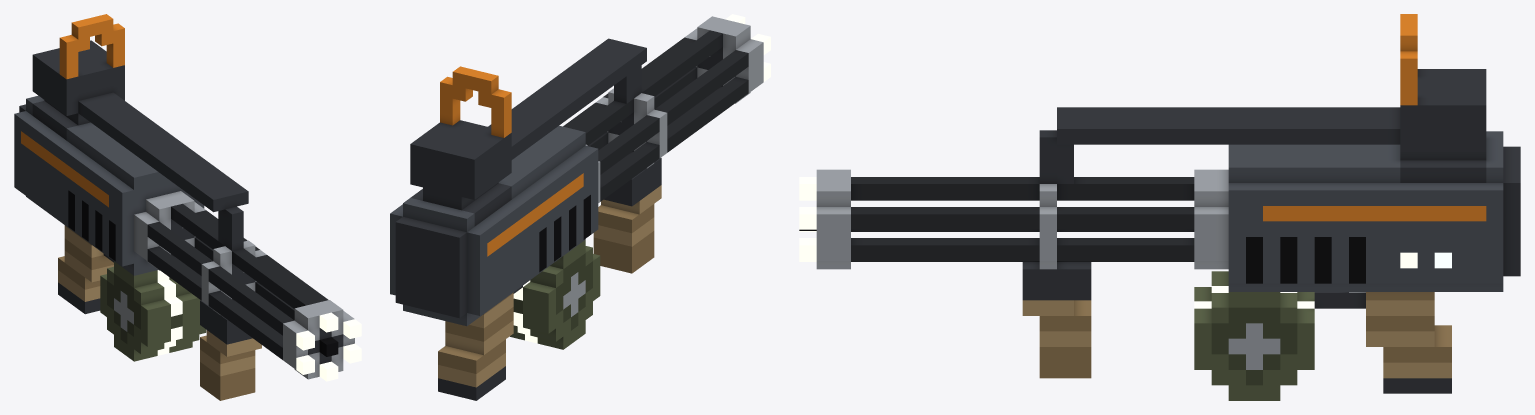
File: rebel_heavy.glb
The picture shows the model from 3 angles, left to right: view 1: azimuth 30°, elevation 25°; view 2: azimuth 150°, elevation 25°; view 3: azimuth 270°, elevation 25°; orthographic projection. The views are drawn at different scales.
Visible parts, largest first — view 1: rebel_heavy_body; view 2: rebel_heavy_body; view 3: rebel_heavy_body.
Boxes of the visible parts, x1,y1,x2,y2 form: rebel_heavy_body: (14, 14, 361, 400); rebel_heavy_body: (390, 14, 770, 400); rebel_heavy_body: (799, 14, 1520, 400).
Size of the model in its own units: 0.2734 by 0.8984 by 1.64.
1 material, 1 textured.
